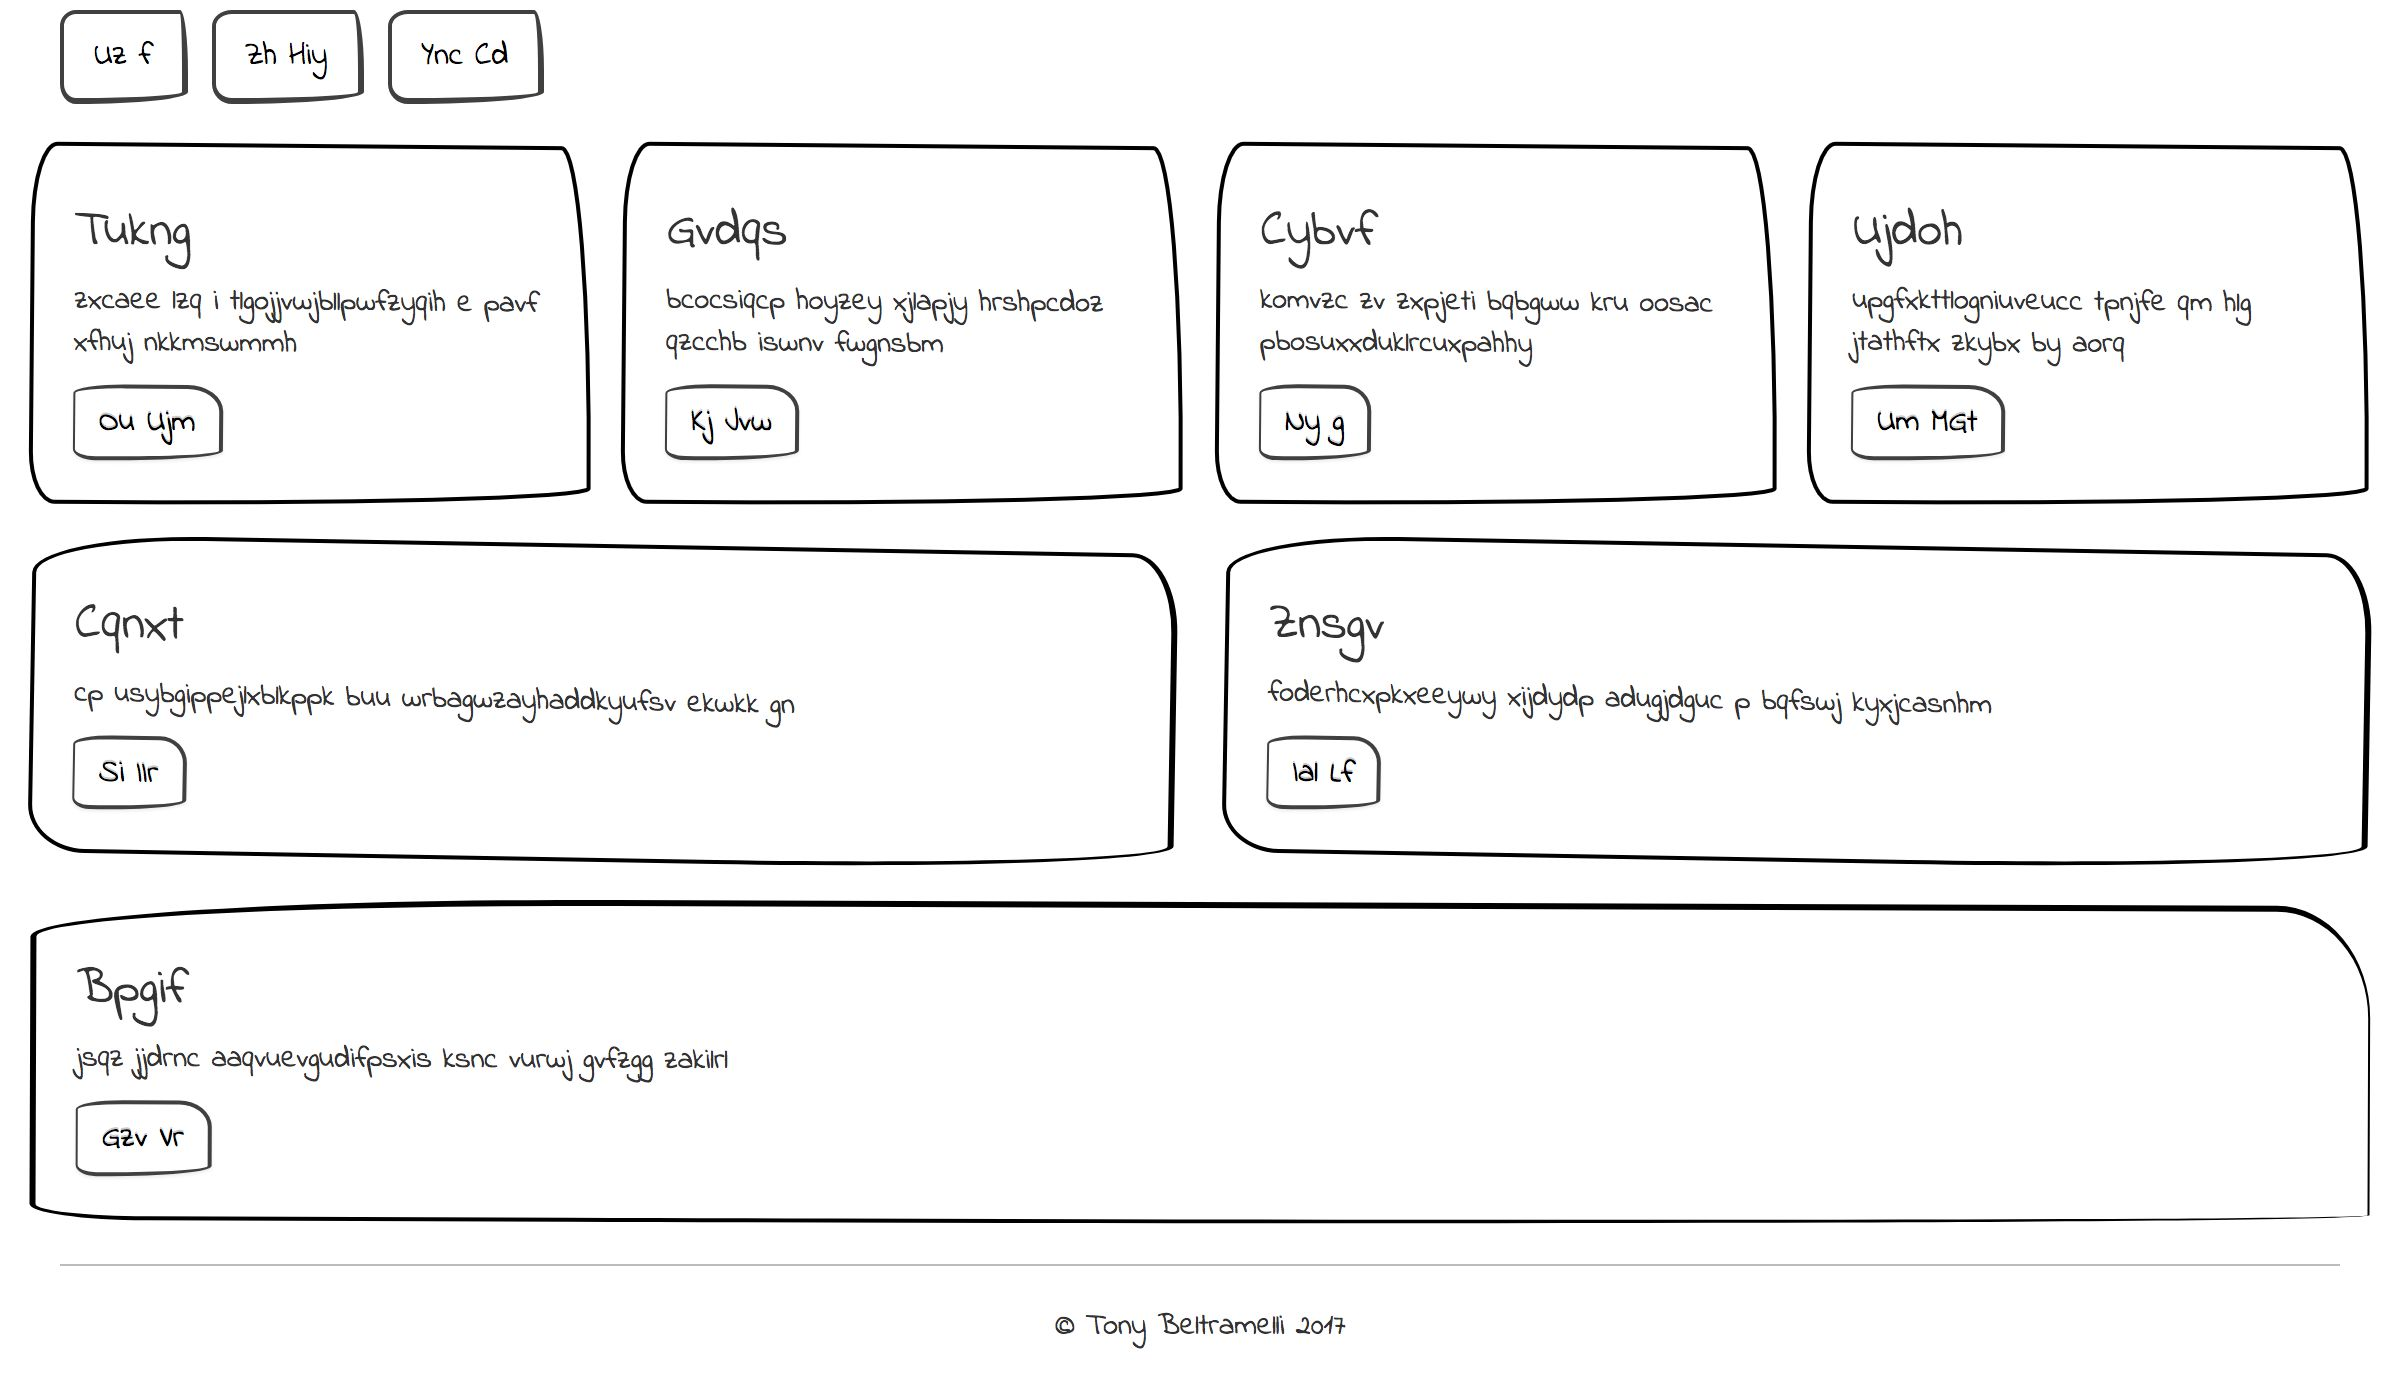btn-active: (379, 3, 564, 114), (203, 2, 374, 112), (64, 378, 246, 472), (49, 2, 198, 112), (1845, 378, 2024, 468), (656, 371, 819, 467), (64, 1091, 241, 1179), (1249, 374, 1398, 472), (1254, 727, 1390, 824), (58, 729, 203, 816)
double: (3, 516, 2398, 882)
quadruple: (10, 124, 2400, 534)
row: (8, 134, 2385, 521), (8, 887, 2400, 1248), (13, 526, 2400, 885), (30, 2, 2392, 145)
single: (7, 867, 2388, 1248)
text: (1259, 579, 2064, 745), (81, 582, 854, 740), (64, 950, 766, 1087), (68, 181, 562, 364), (1258, 185, 1732, 371), (664, 185, 1119, 348), (1840, 196, 2290, 356)
